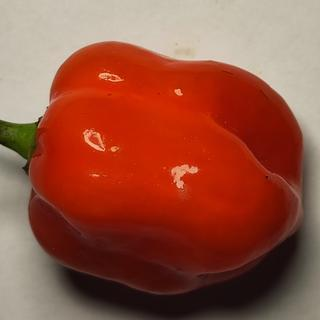Grade-A: (13, 34, 307, 295)
